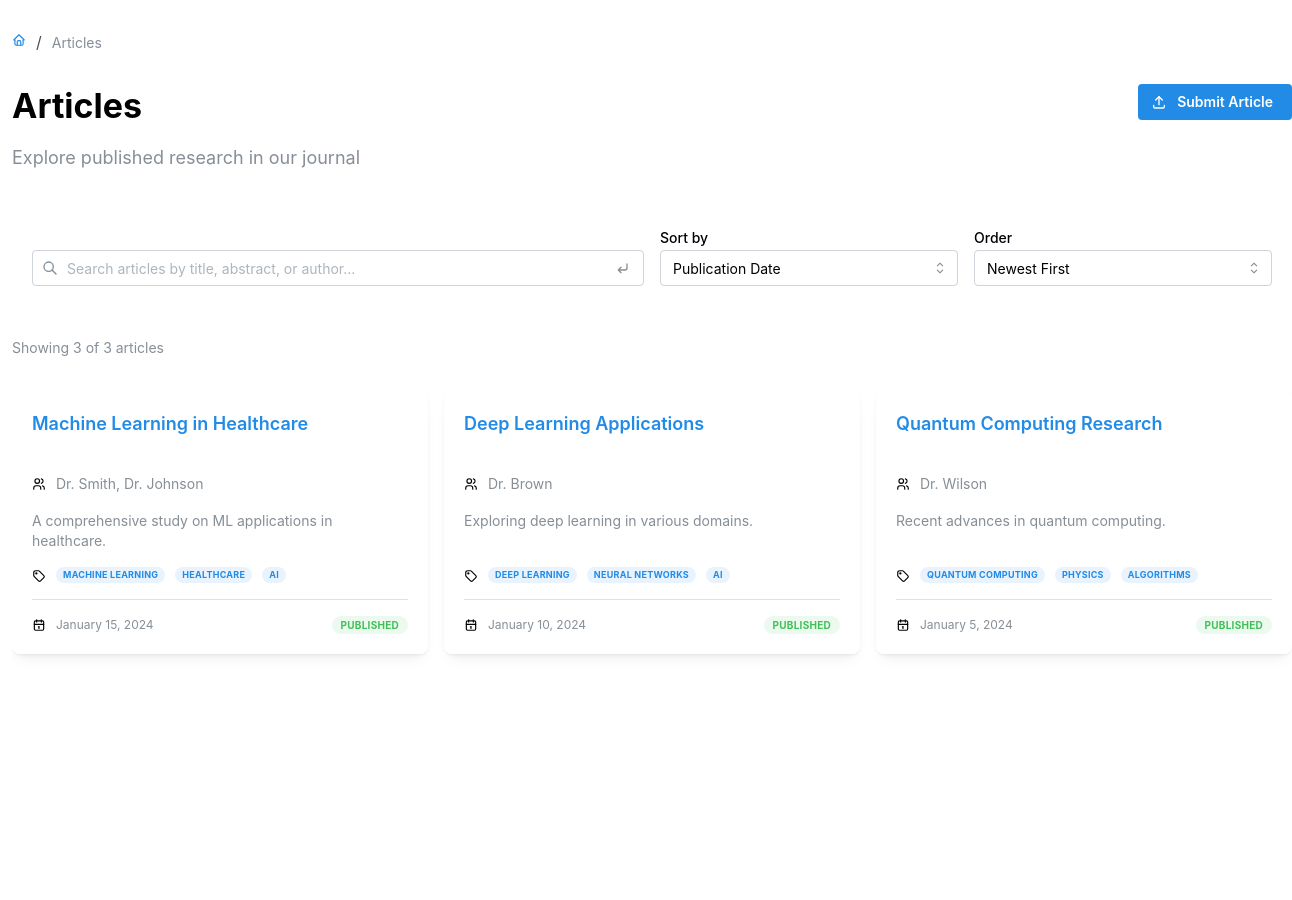
Scenario: Articles Page - Tag Filtering › Tag Filtering Functionality › should show filter indicator when a tag is selected
Expected: the link "Machine Learning in Healthcare" is shown, [32,413,308,434]
// Click on a tag
Click the text "AI" below "Dr. Smith, Dr. Johnson" at (274, 575), box [269,568,279,582]
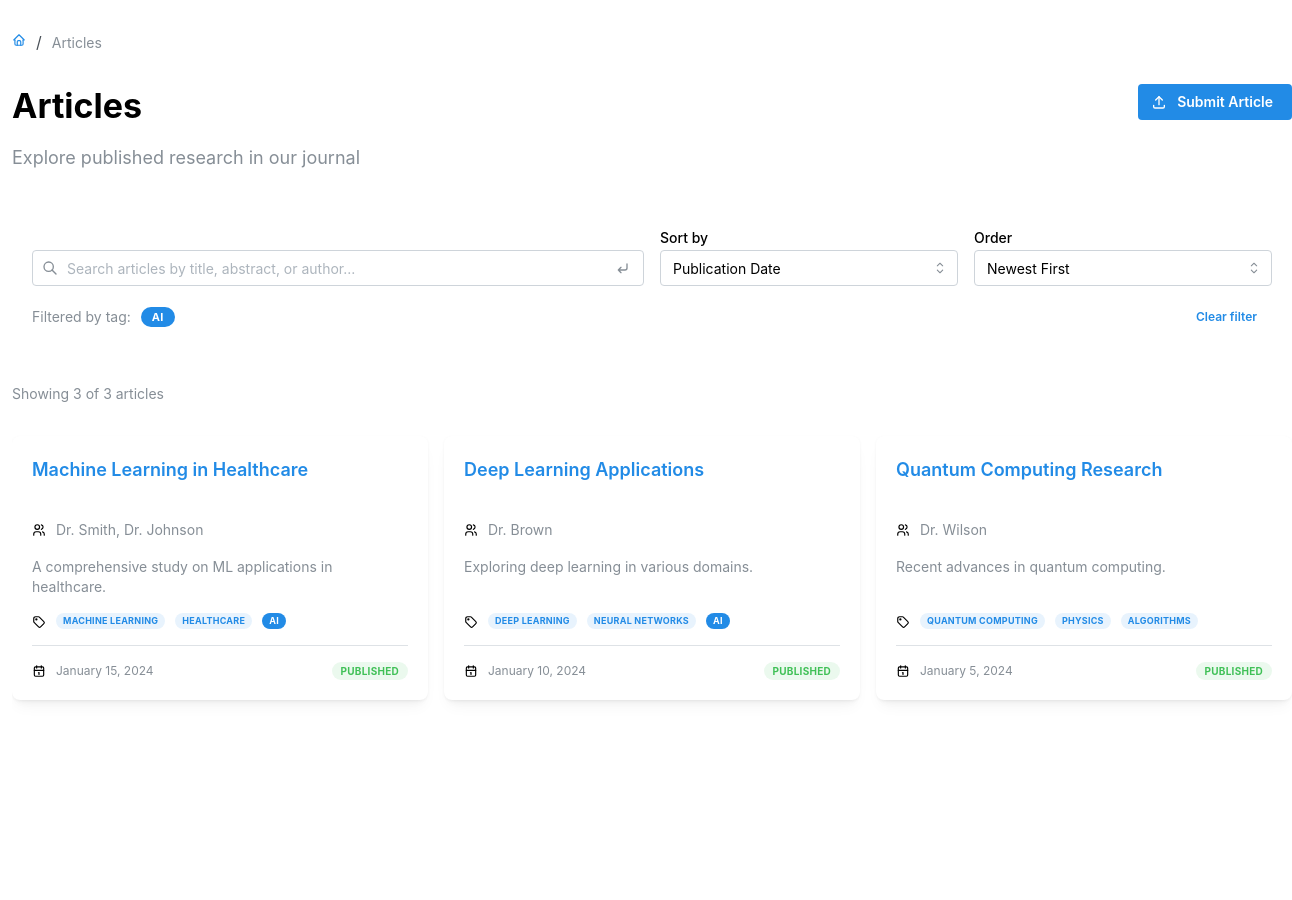
Result: the text "Filtered by tag:" is shown at [32,307,131,327]
Result: the button "Clear filter" is shown at [1196,309,1257,324]
